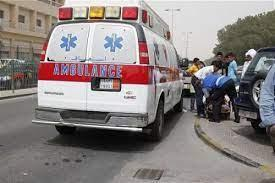ambulance_off: (30, 2, 184, 142)
